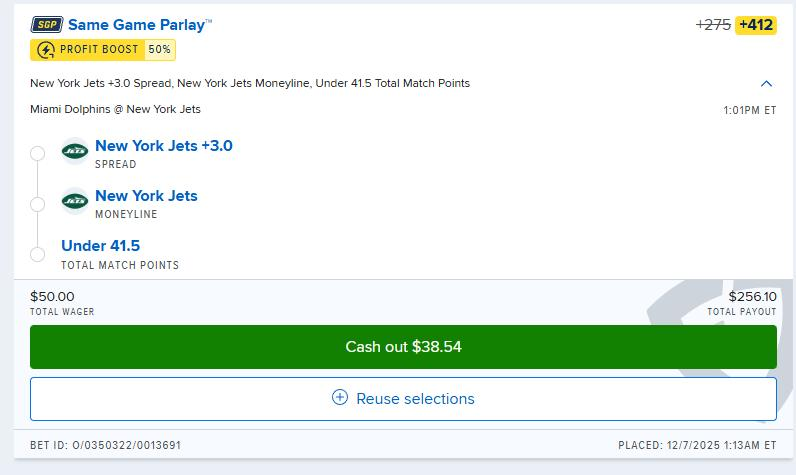game: (28, 102, 202, 116)
odds: (736, 15, 777, 34)
payout: (727, 288, 778, 305)
wager: (28, 288, 76, 304)
